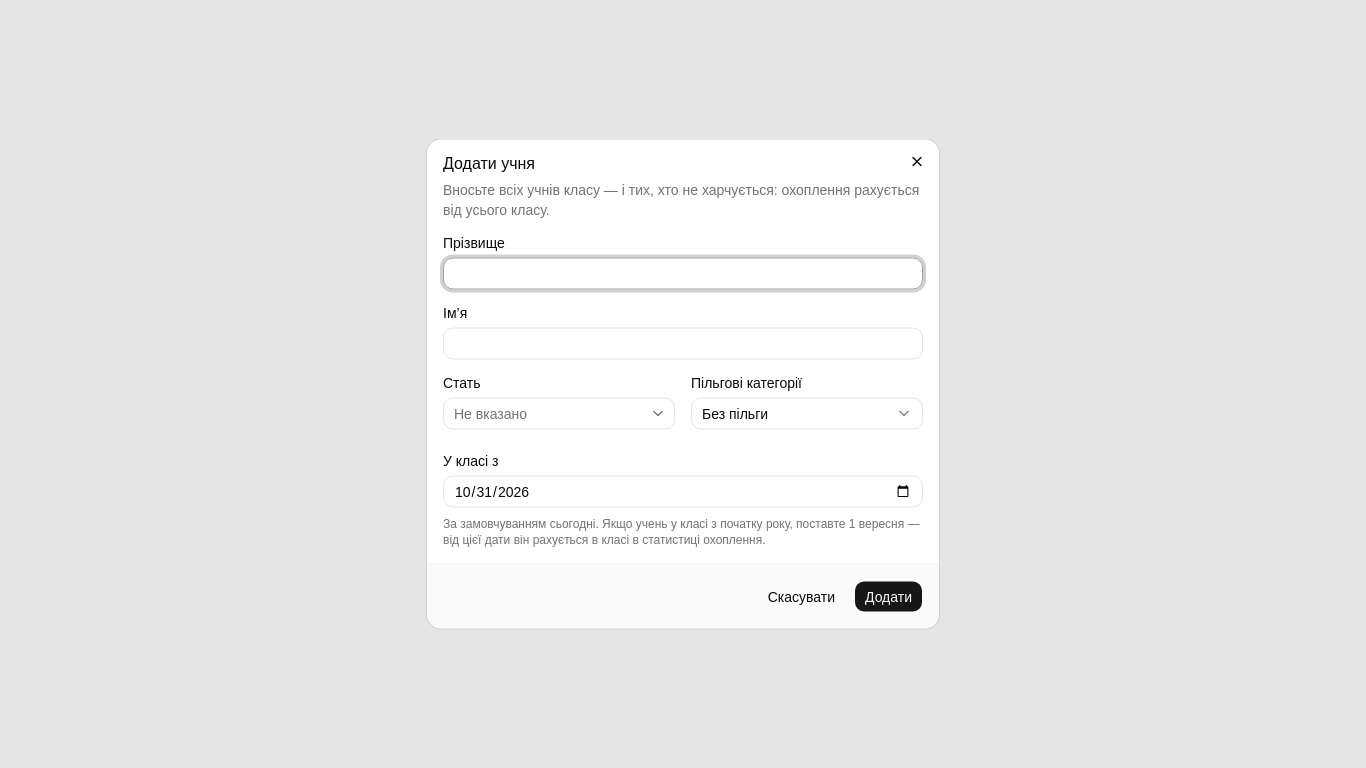
it: додавання учня › без статі не додає
Type "Мороз" into the field labelled "Прізвище" at [683, 274], box x1=443 y1=258 x2=923 y2=290
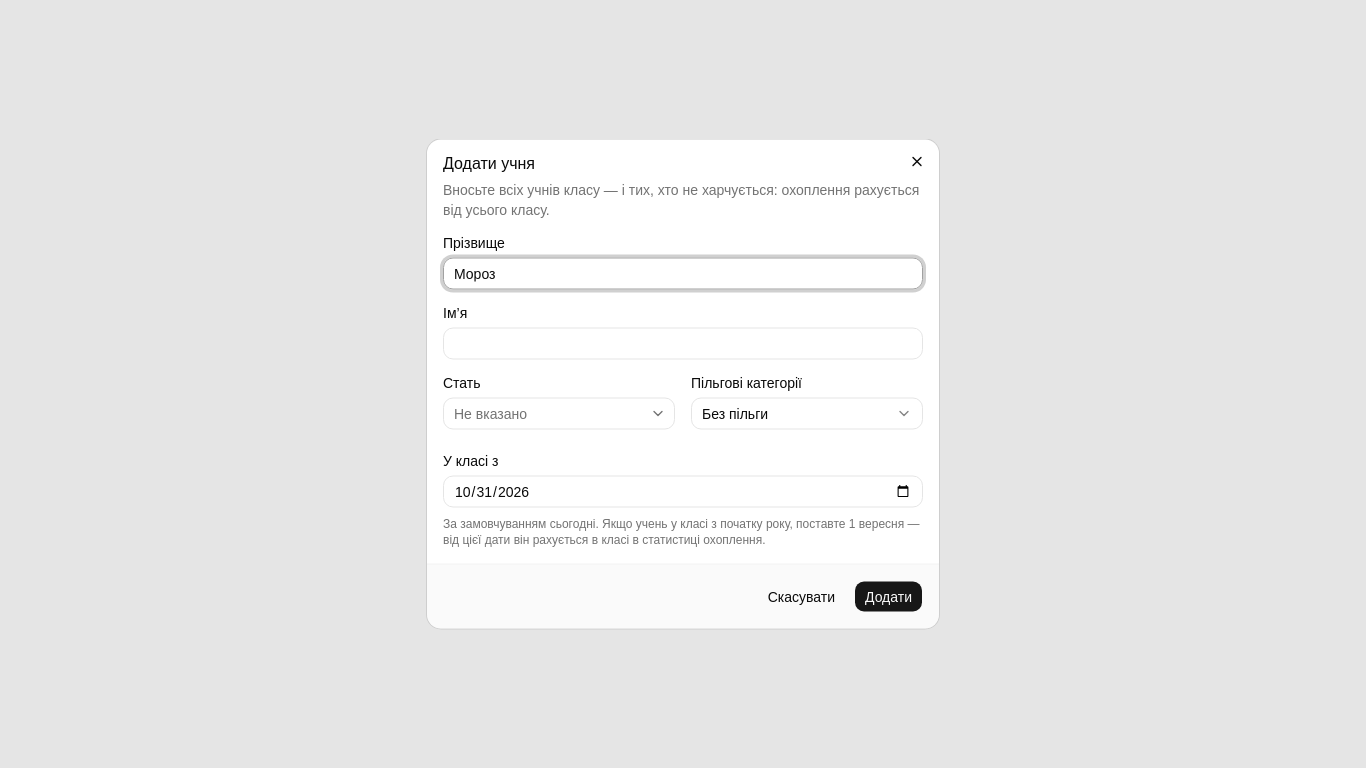
Type "Злата" into the field labelled "Ім’я" at [683, 344], box x1=443 y1=328 x2=923 y2=360
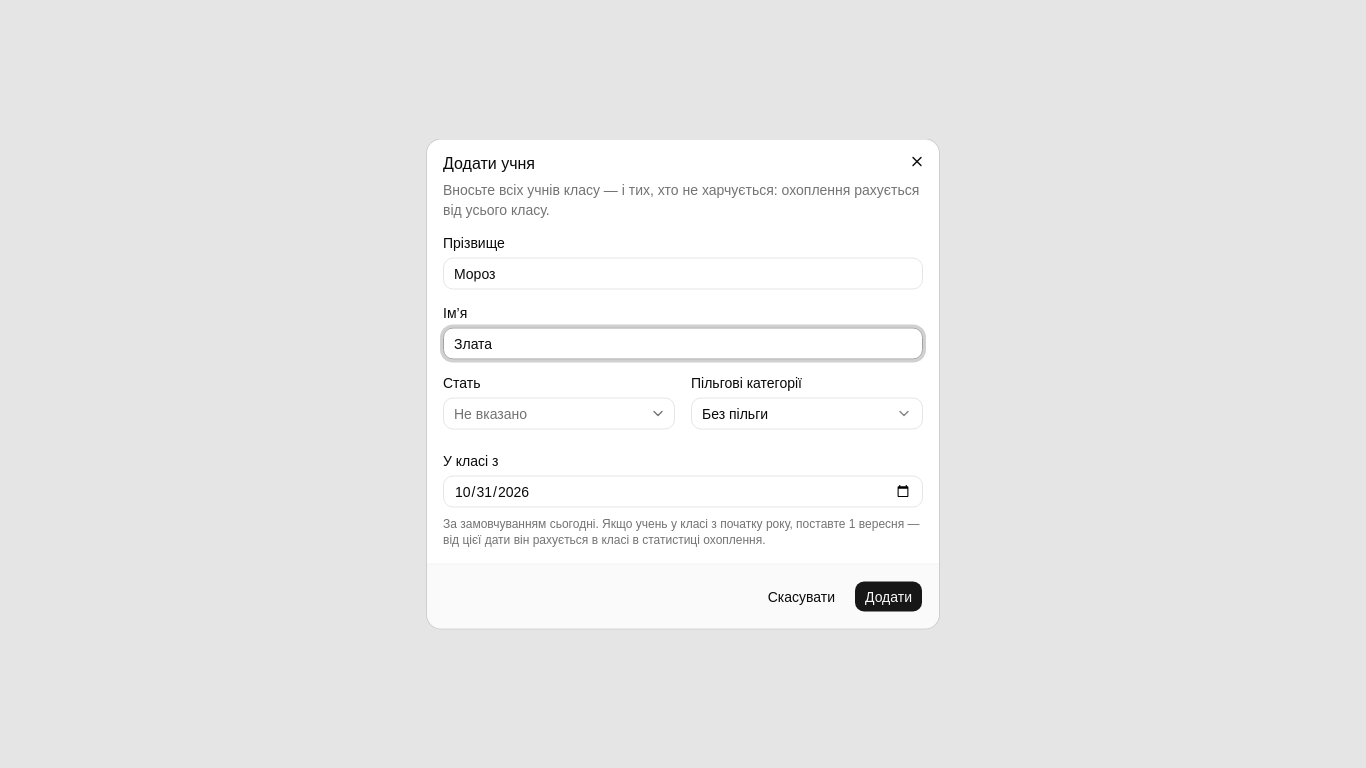
Click the button "Додати" at [888, 596], box x1=854 y1=580 x2=923 y2=612
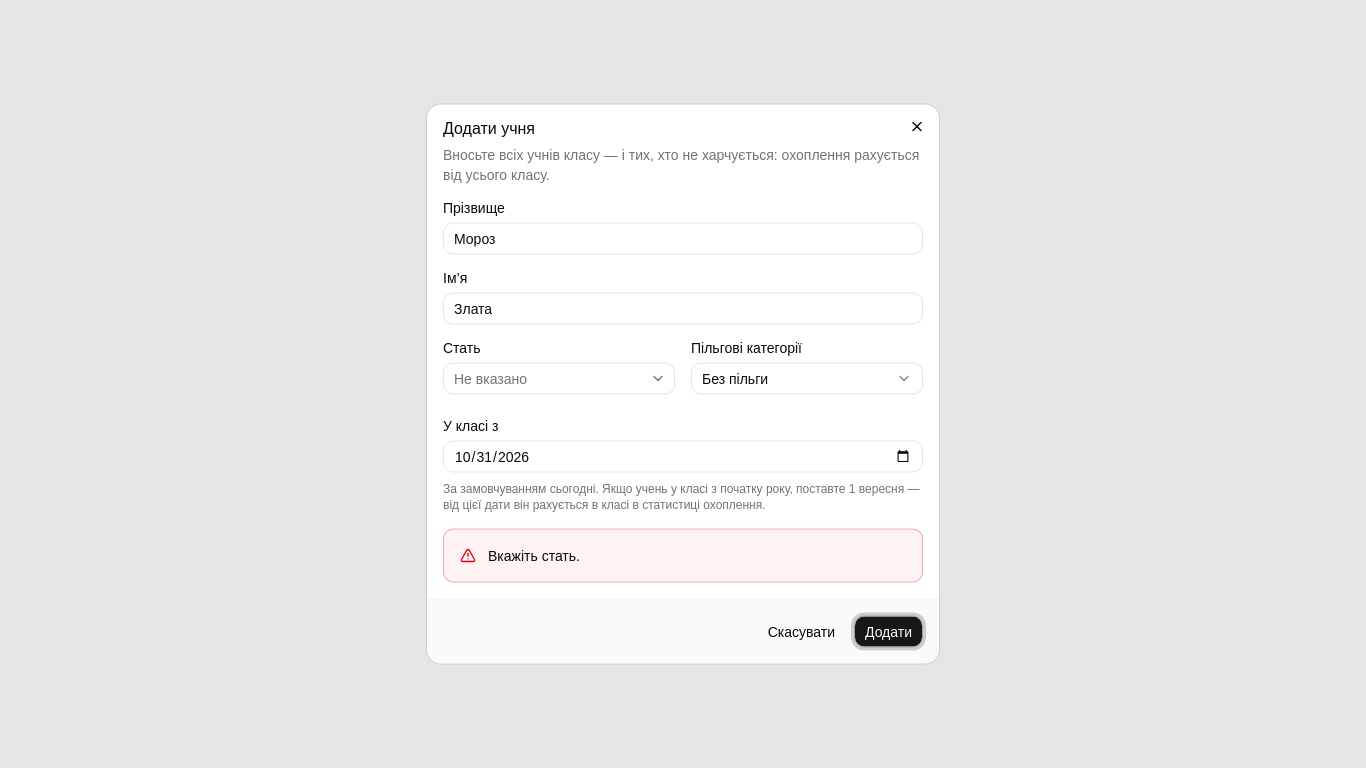
Check: the text "Вкажіть стать." is shown, box x1=488 y1=546 x2=580 y2=566
